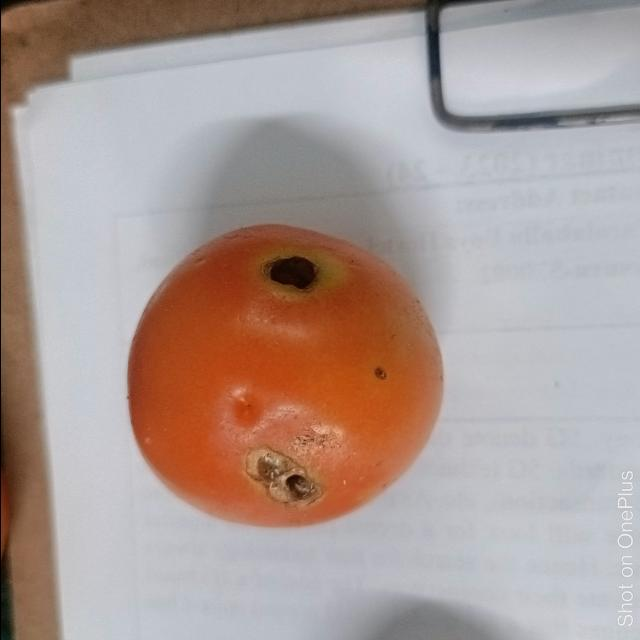fruitworm_bore: (244, 444, 334, 512), (258, 251, 322, 299)
